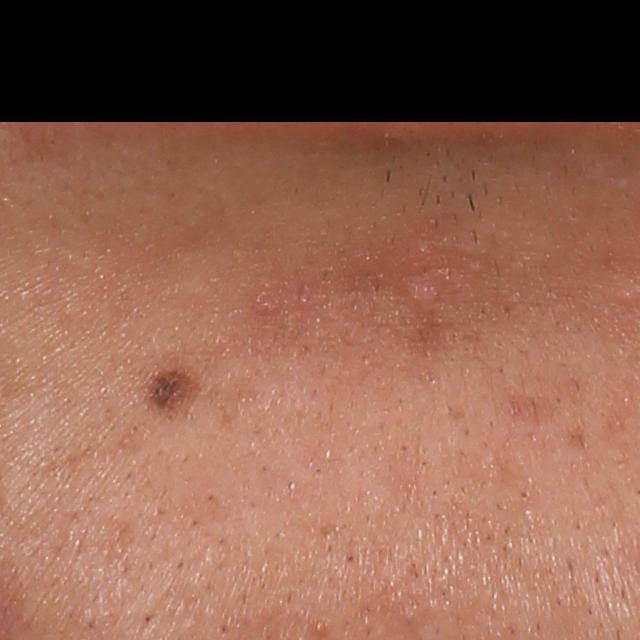nevus: (142, 361, 203, 414)
